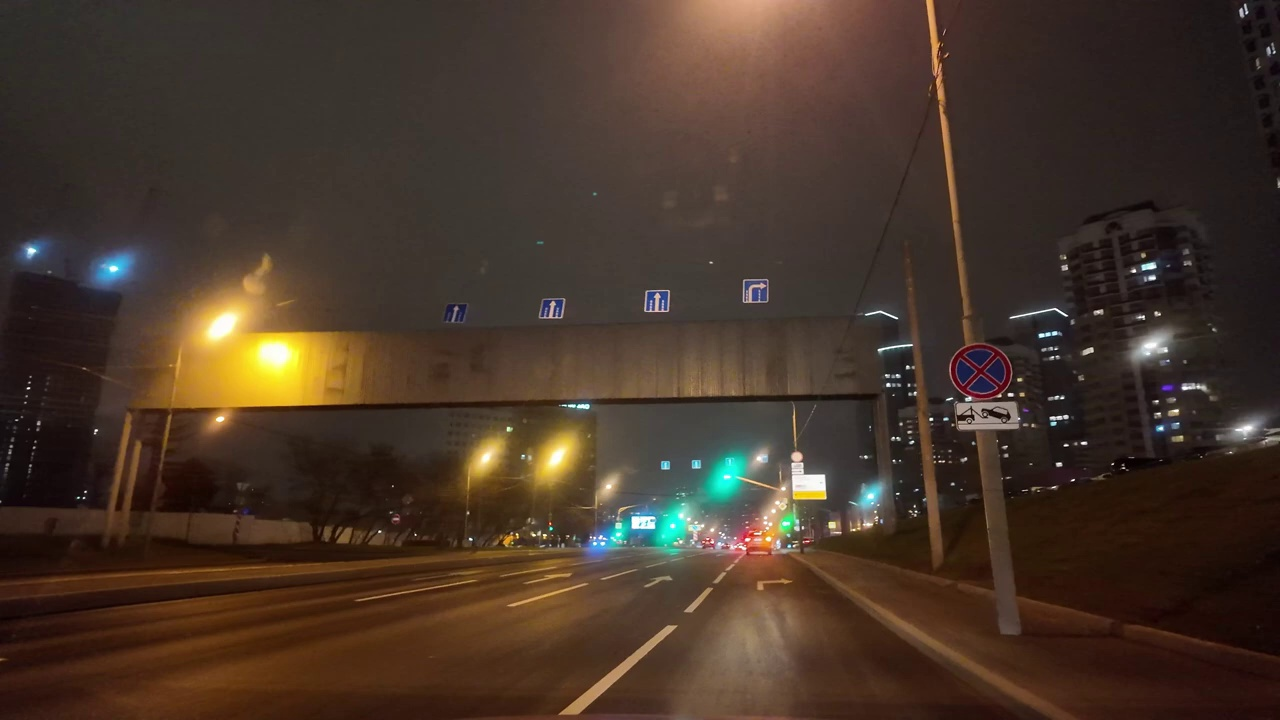acesa: (200, 301, 278, 384), (196, 306, 262, 368), (243, 337, 312, 393), (197, 301, 251, 352), (91, 247, 141, 296), (539, 438, 577, 477), (467, 439, 501, 478)
